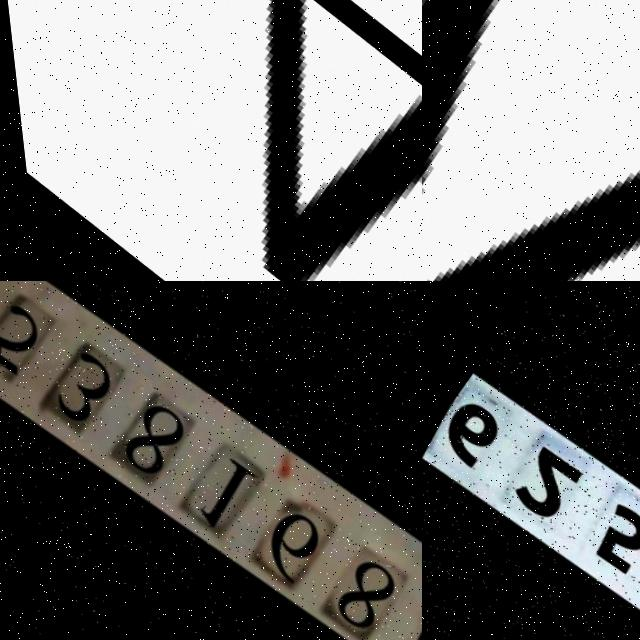0: (362, 574, 422, 640)
1: (153, 428, 267, 544)
2: (477, 420, 599, 544)
3: (19, 330, 126, 439)
5: (556, 476, 640, 590), (0, 281, 56, 388)
6: (219, 478, 335, 594), (422, 372, 523, 492)
8: (83, 373, 201, 492), (292, 527, 406, 640)
A: (0, 0, 422, 281)
N: (422, 0, 640, 281)
